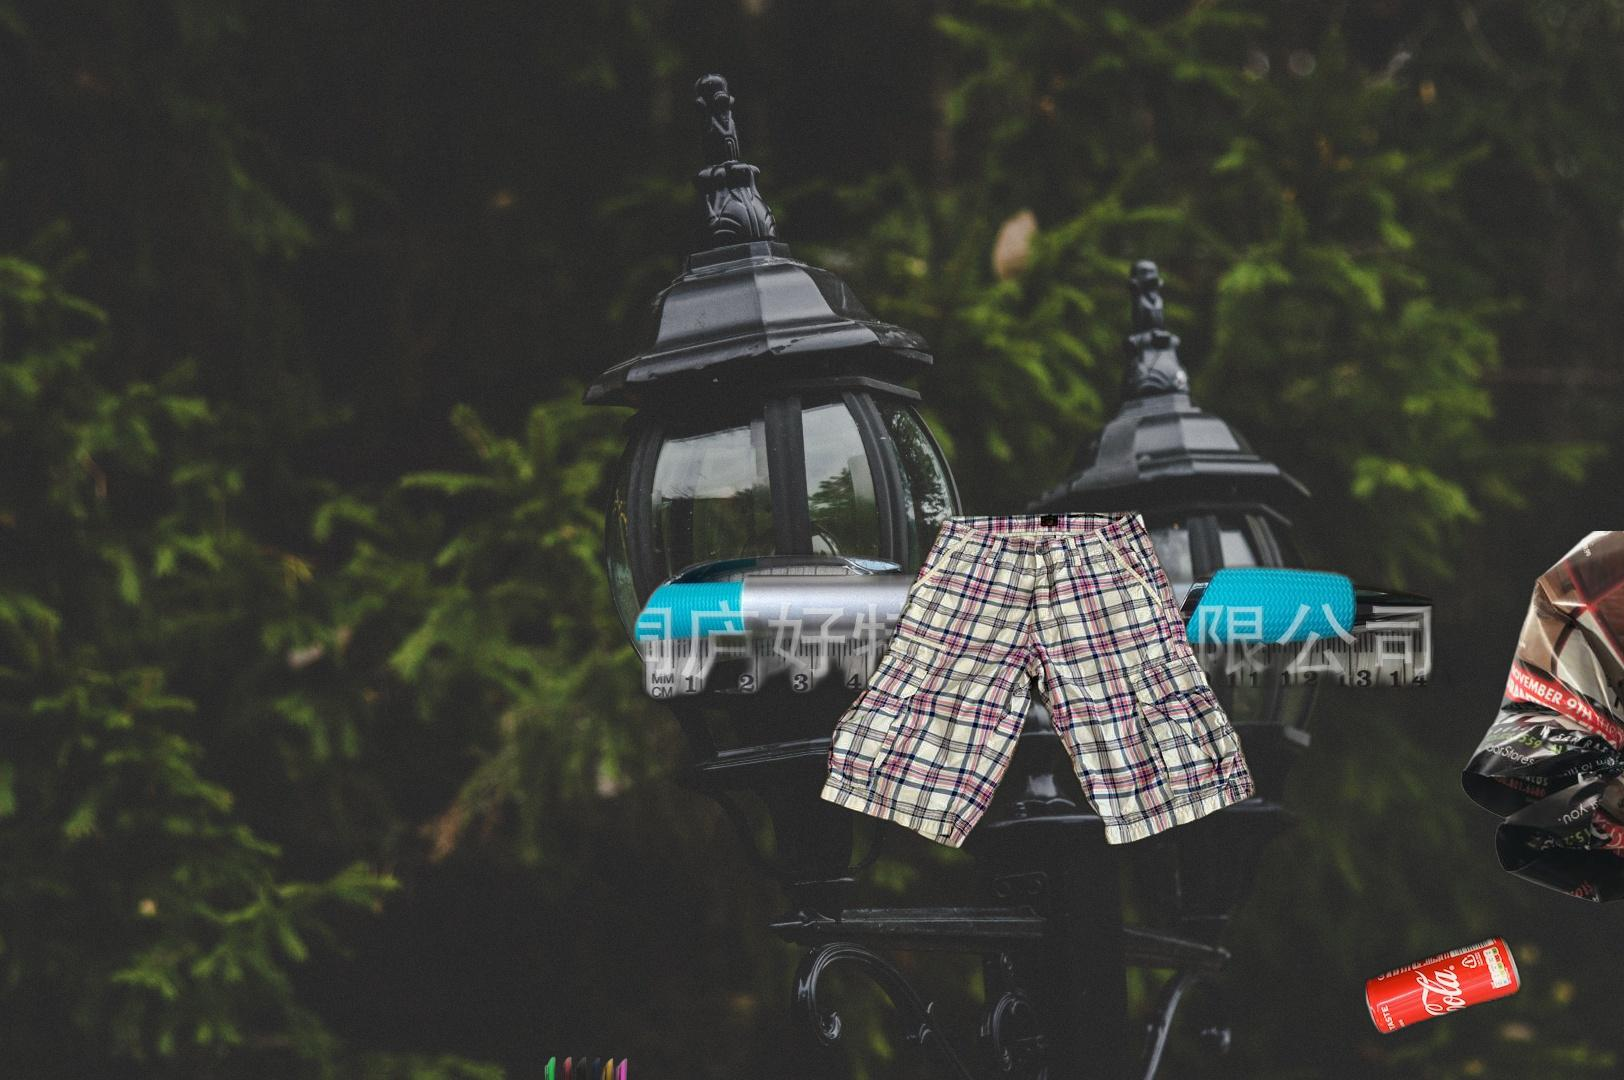clothes: (814, 505, 1263, 853)
metal-cans: (1361, 932, 1526, 1039)
paper: (1457, 532, 1624, 906)
penholder: (625, 538, 1519, 722), (513, 1041, 663, 1080)
